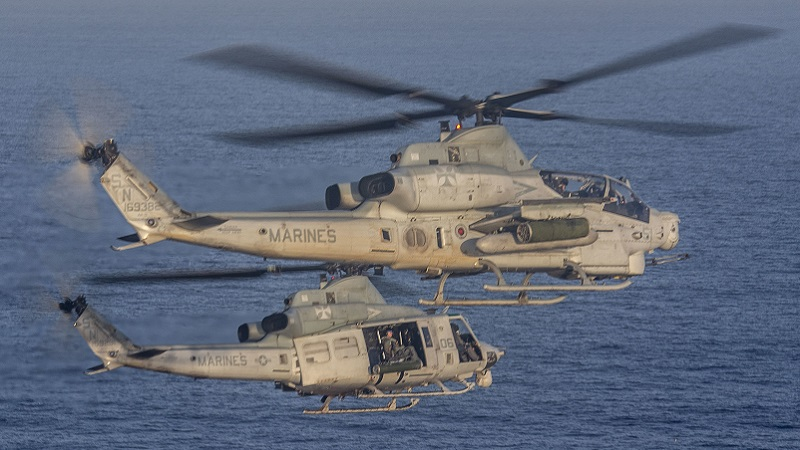Aeronef_militaire: (50, 14, 687, 315), (50, 254, 516, 417)
